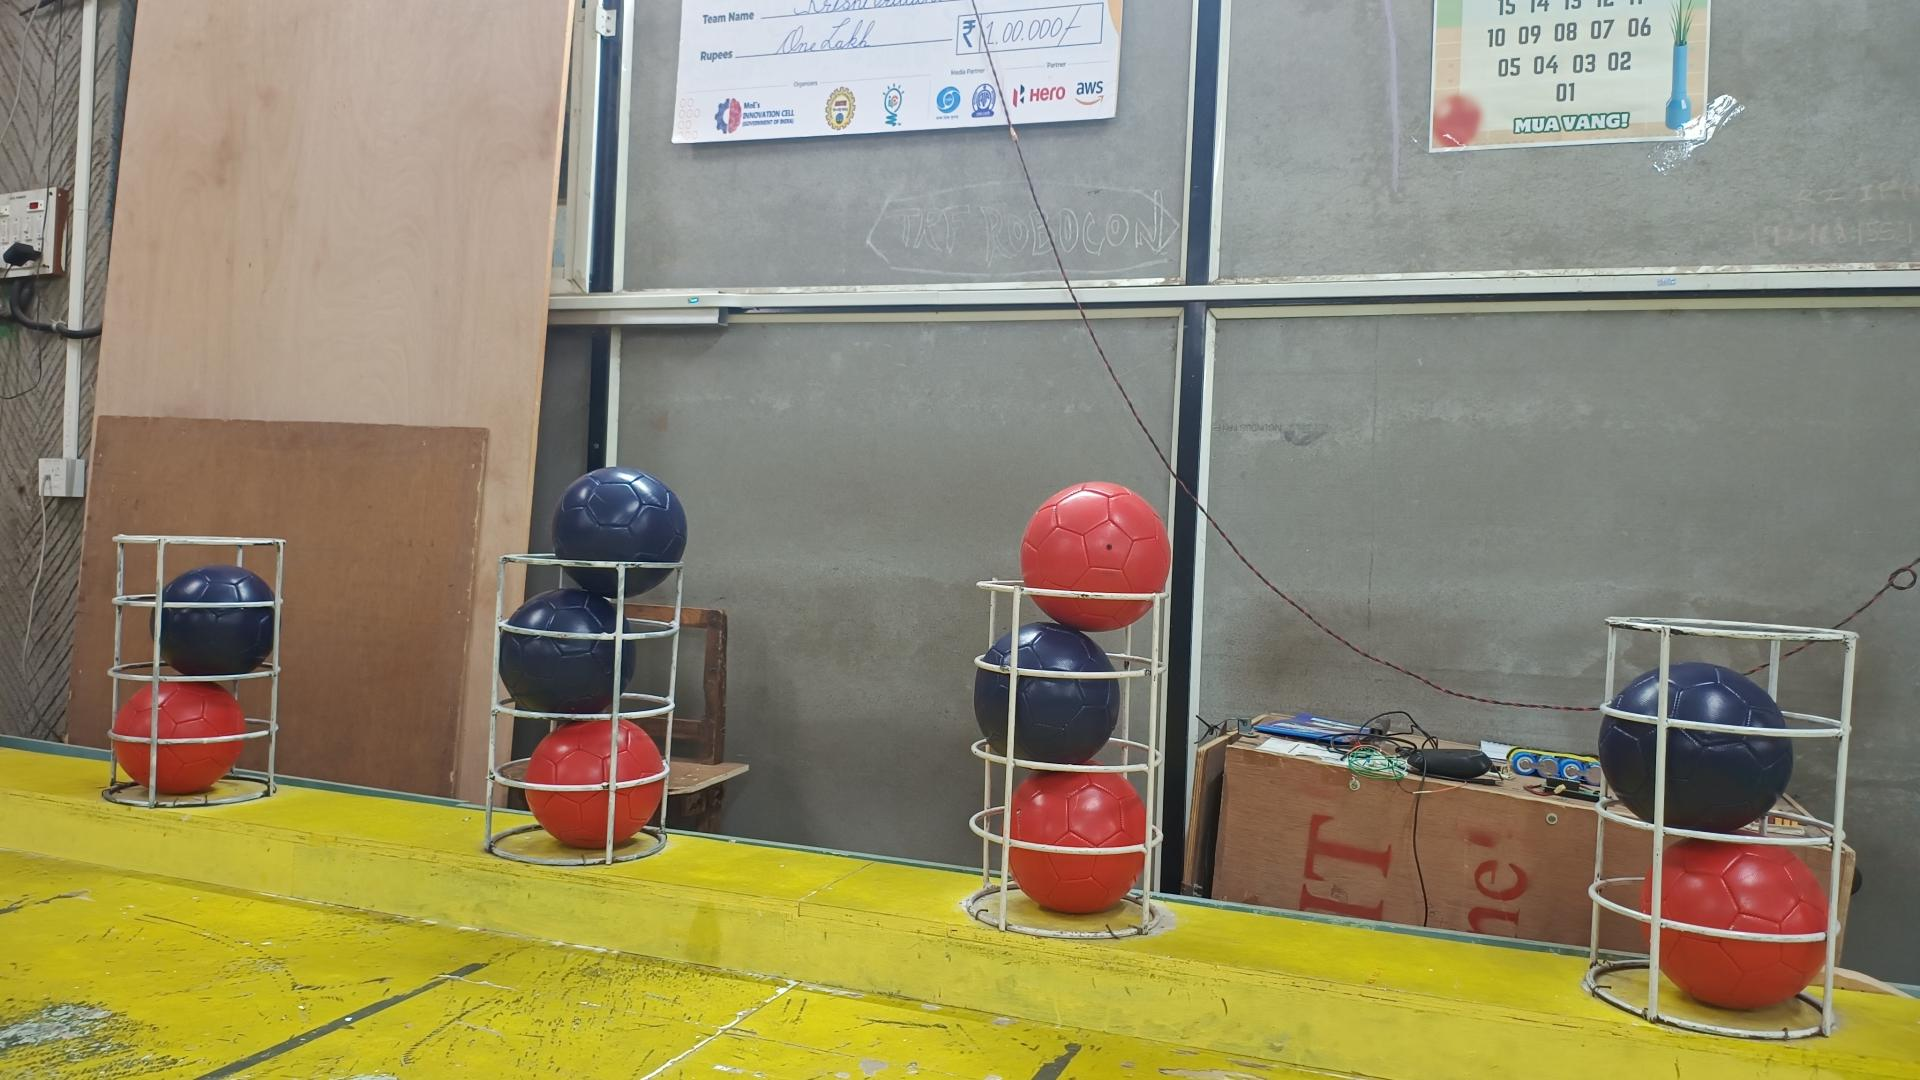dhoka: (1597, 661, 1792, 840), (975, 622, 1121, 765), (551, 465, 686, 600), (498, 588, 637, 712), (150, 566, 277, 675)
laale: (1639, 840, 1830, 1009), (1021, 484, 1170, 630), (1001, 773, 1147, 915), (525, 720, 663, 852), (112, 679, 244, 795)
